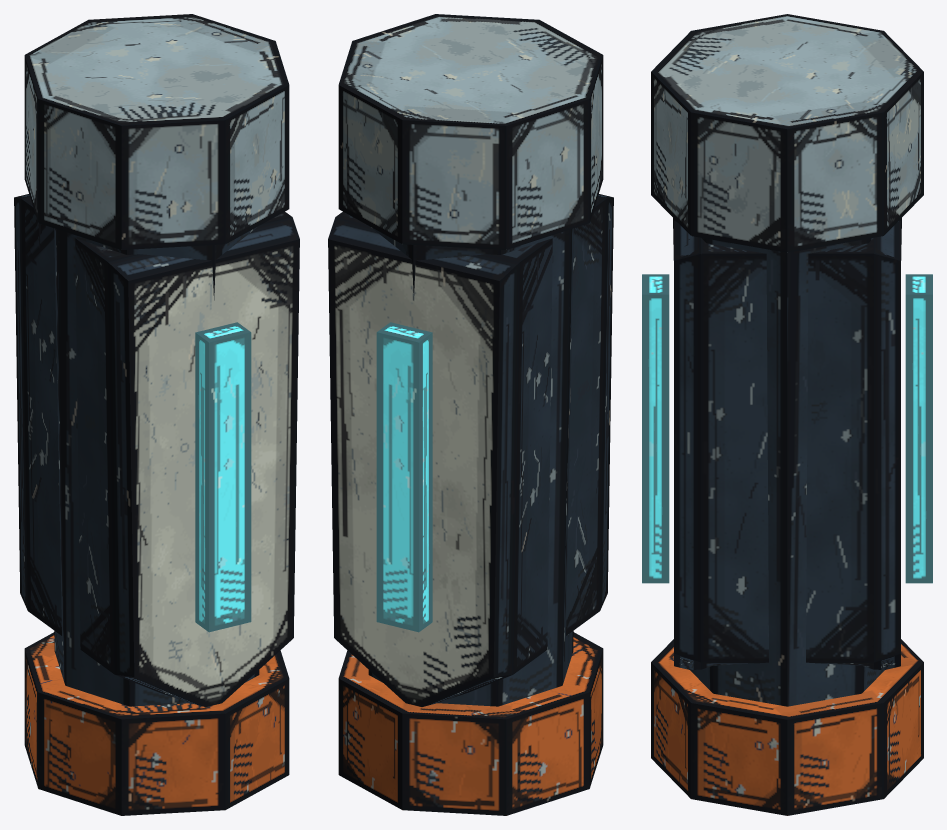
Rendered from grip_maliwan.glb.
The picture shows the model from 3 angles, left to right: view 1: azimuth 30°, elevation 25°; view 2: azimuth 150°, elevation 25°; view 3: azimuth 270°, elevation 25°; orthographic projection.
Parts seen in each view (by area): view 1: grip_maliwan; view 2: grip_maliwan; view 3: grip_maliwan.
Boxes of the visible parts, <box> form: grip_maliwan: <box>14,14,299,815</box>; grip_maliwan: <box>328,14,613,815</box>; grip_maliwan: <box>642,14,932,815</box>.
Bounding box in the file's own units: 0.18 × 0.5 × 0.192.
2 materials, 2 textured.
